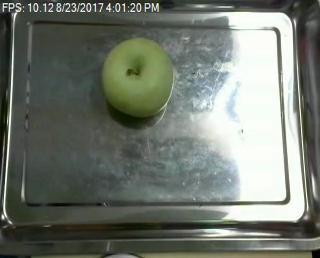fruit: (102, 33, 180, 124)
